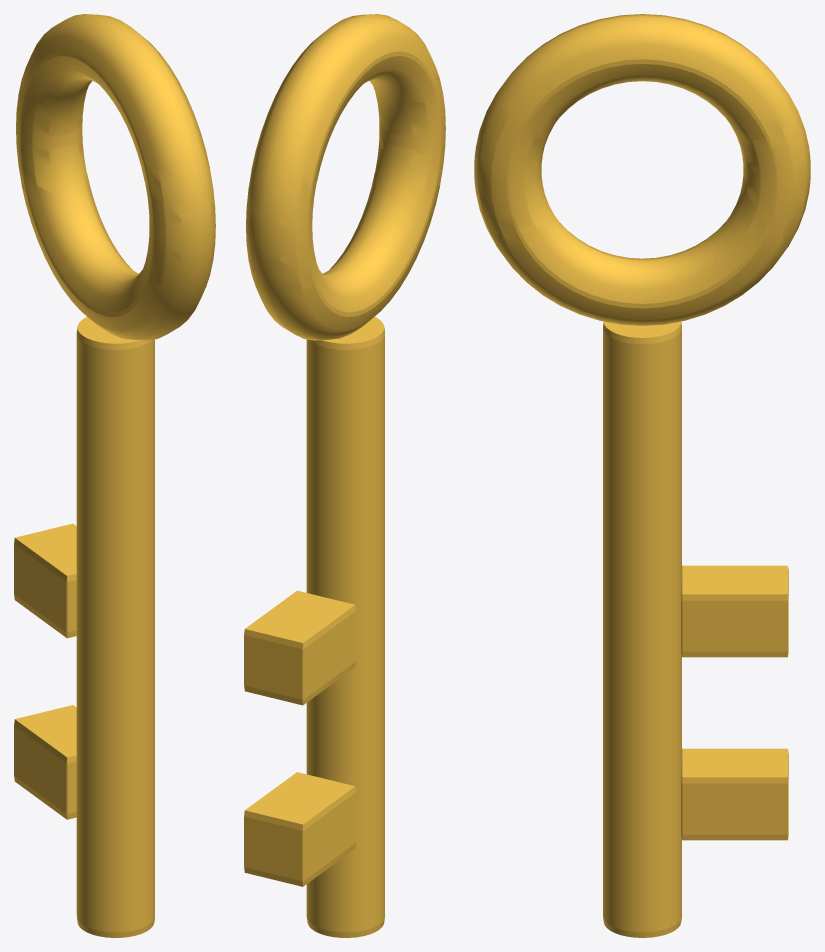
The model's file is key.fbx.
The picture shows the model from 3 angles, left to right: view 1: azimuth 30°, elevation 25°; view 2: azimuth 150°, elevation 25°; view 3: azimuth 270°, elevation 25°; orthographic projection.
Parts seen in each view (by area): view 1: Cylinder; view 2: Cylinder; view 3: Cylinder.
Boxes of the visible parts, box(x1,y1,x2,y2) form: Cylinder: box(14, 14, 215, 937); Cylinder: box(244, 14, 445, 937); Cylinder: box(474, 14, 810, 937).
Size of the model in its own units: 21.88 by 275 by 92.92.
